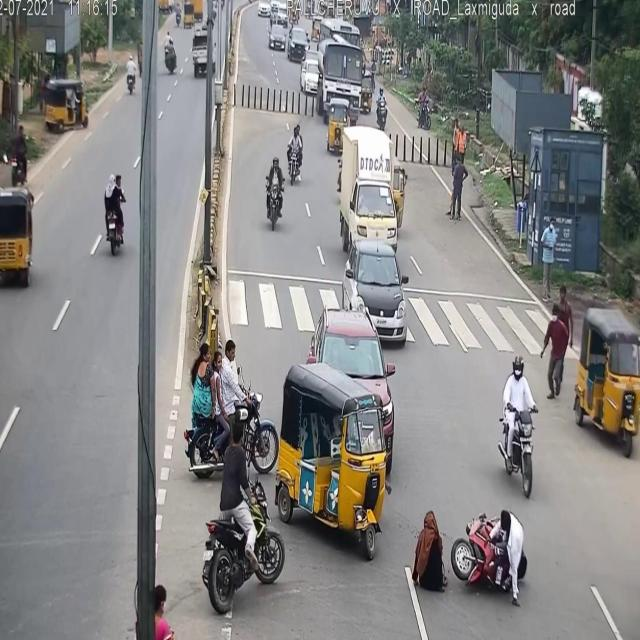accident: (400, 499, 532, 621)
non_accident: (330, 104, 410, 348), (293, 30, 382, 122), (264, 19, 312, 65), (177, 0, 205, 34)
